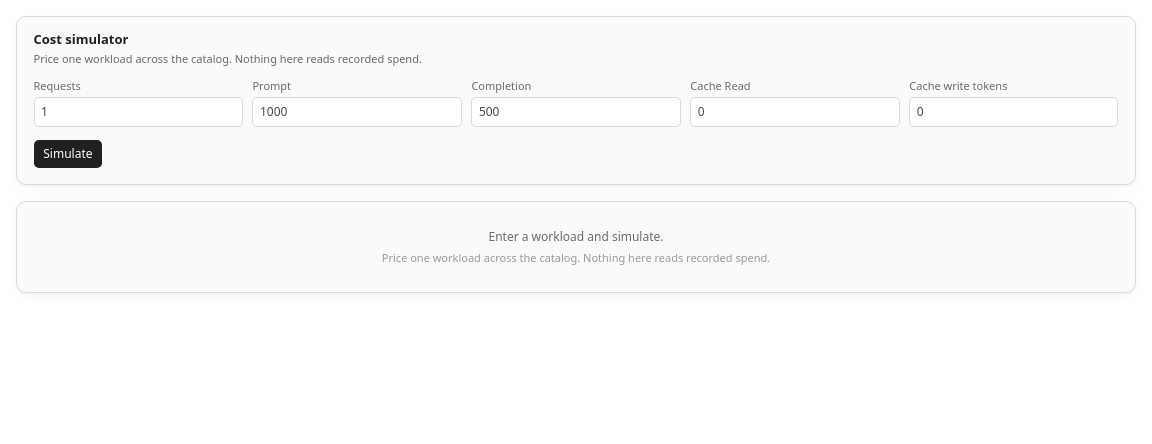
Test: SimulateView › prices the workload across the catalog and marks baseline and unpriced rows
Click the button "Simulate" at (68, 154), box [34,140,102,168]
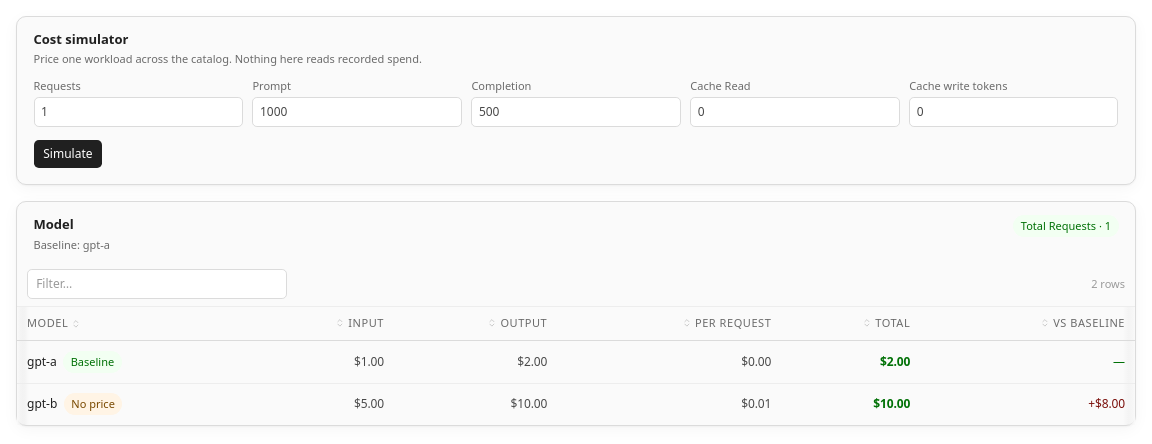
Expected: the text "gpt-a" is shown, [27,353,57,370]
Expected: the text "gpt-b" is shown, [27,395,57,412]
Expected: the text "Baseline" is shown, [63,351,122,373]
